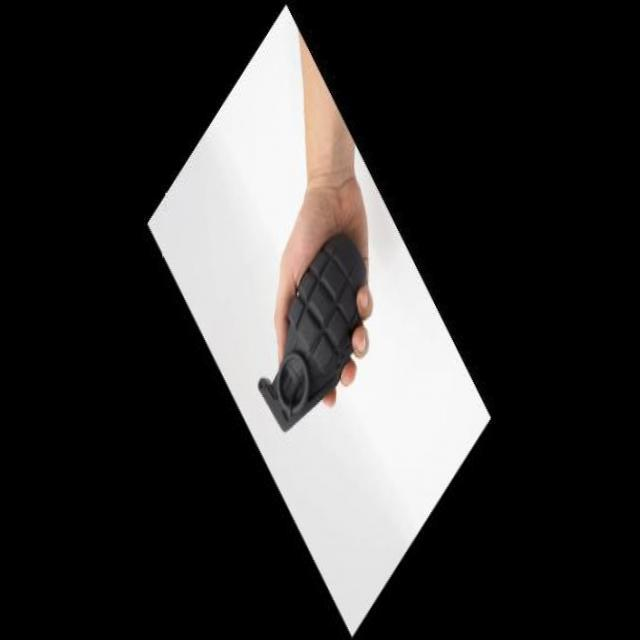grenade: (249, 233, 373, 438)
